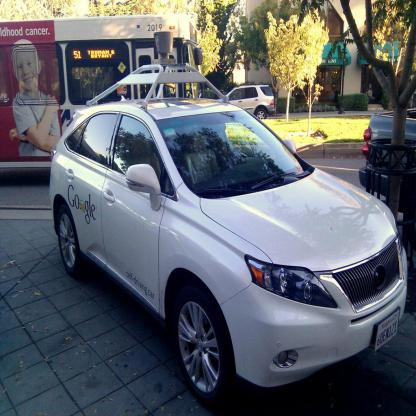Car: (48, 32, 408, 405), (358, 105, 415, 206), (218, 82, 275, 122)
